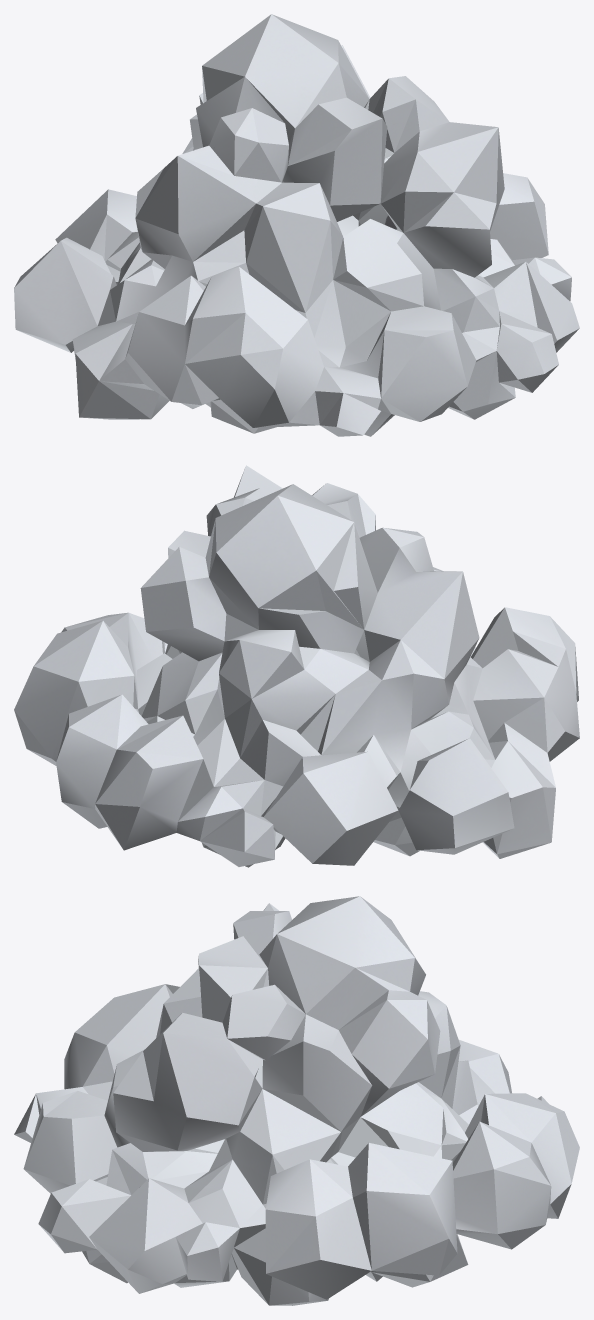
The model's file is cloud_chrome.glb.
3 renders of one model, top to bottom at view 1: azimuth 30°, elevation 25°; view 2: azimuth 150°, elevation 25°; view 3: azimuth 270°, elevation 25°, orthographic.
Size of the model in its own units: 1.9 by 1.25 by 1.86.
Materials: 1 (1 with a texture image).
